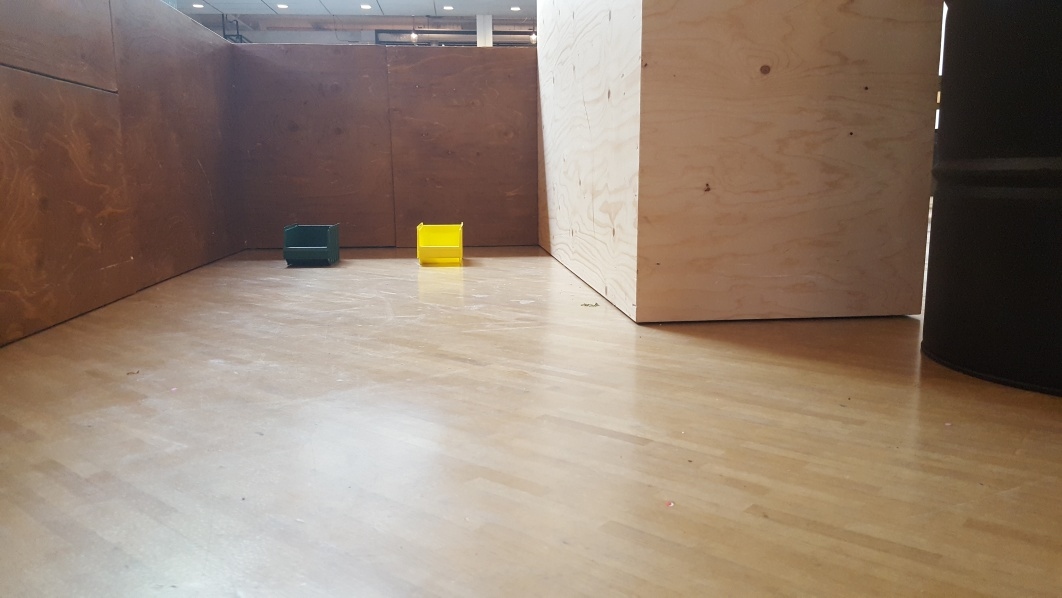tray: (279, 223, 347, 269), (413, 218, 469, 271)
